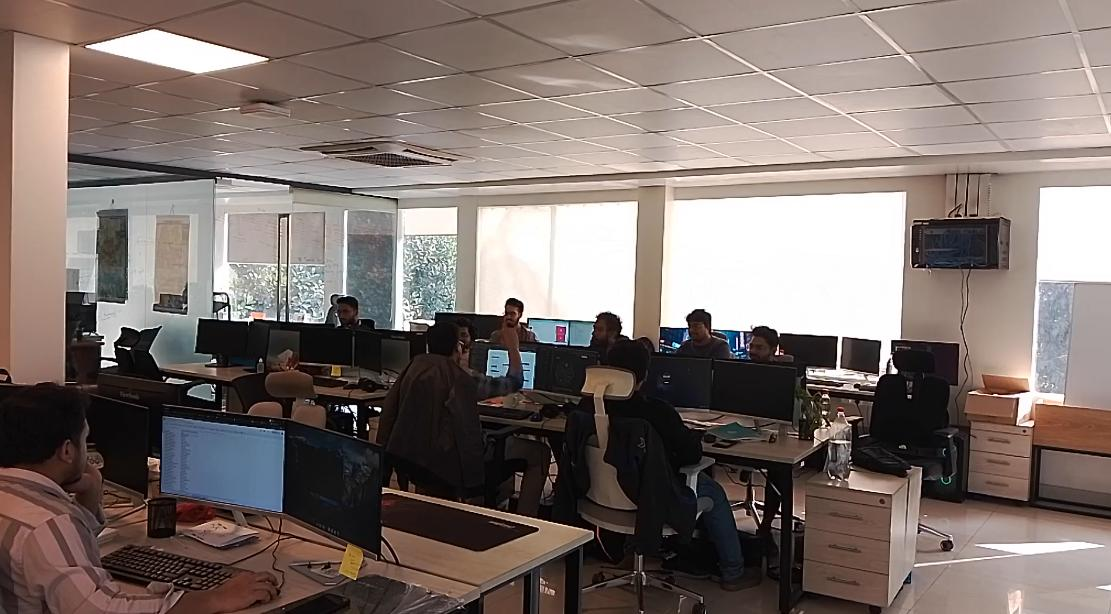hand: (497, 317, 528, 373)
